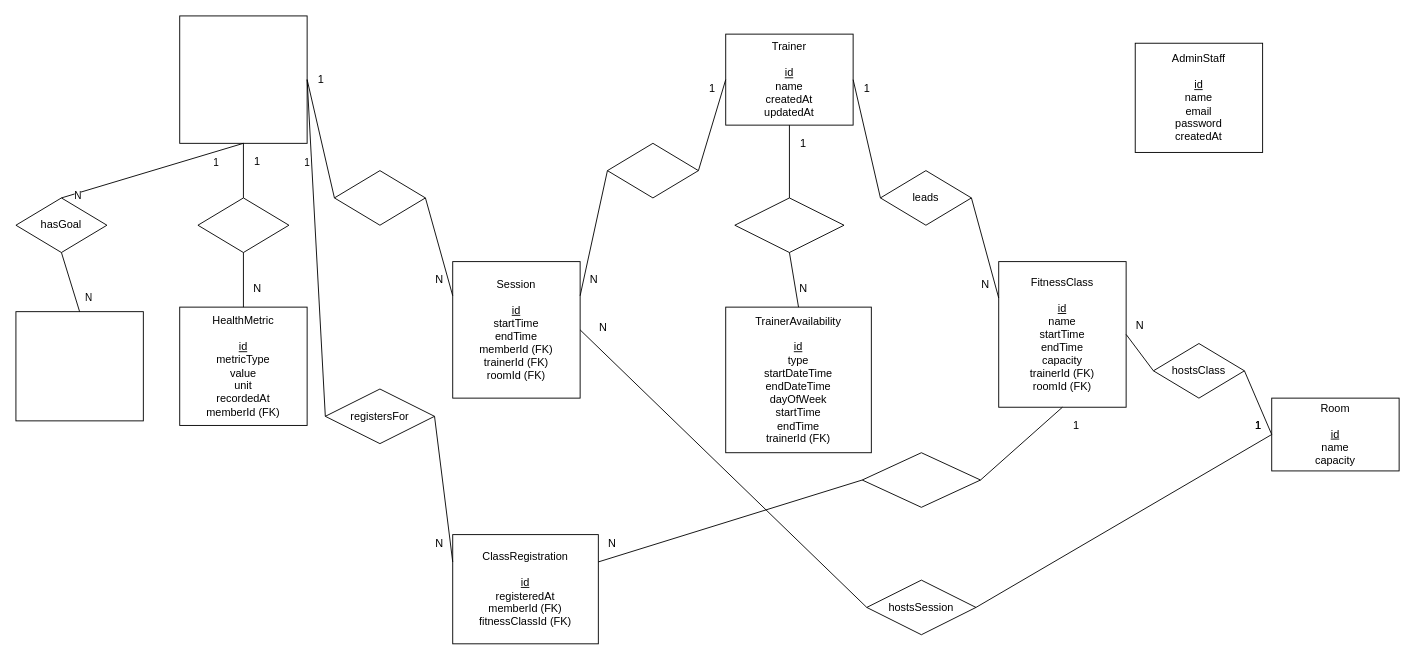
Some shapes in this 1415 by 660 pixel diagram are drawn without their labels. The centre of each missing label's shape, as x and y in pixels:
books: the point at 379,197
conducts: the point at 652,170
FitnessGoals id value active recordedAt memberId (FK): the point at 79,366
hasAvailability: the point at 789,225
hasRegistration: the point at 921,479
Member id name email phone dateOfBirth createdAt updatedAt: the point at 243,79
records: the point at 243,225
